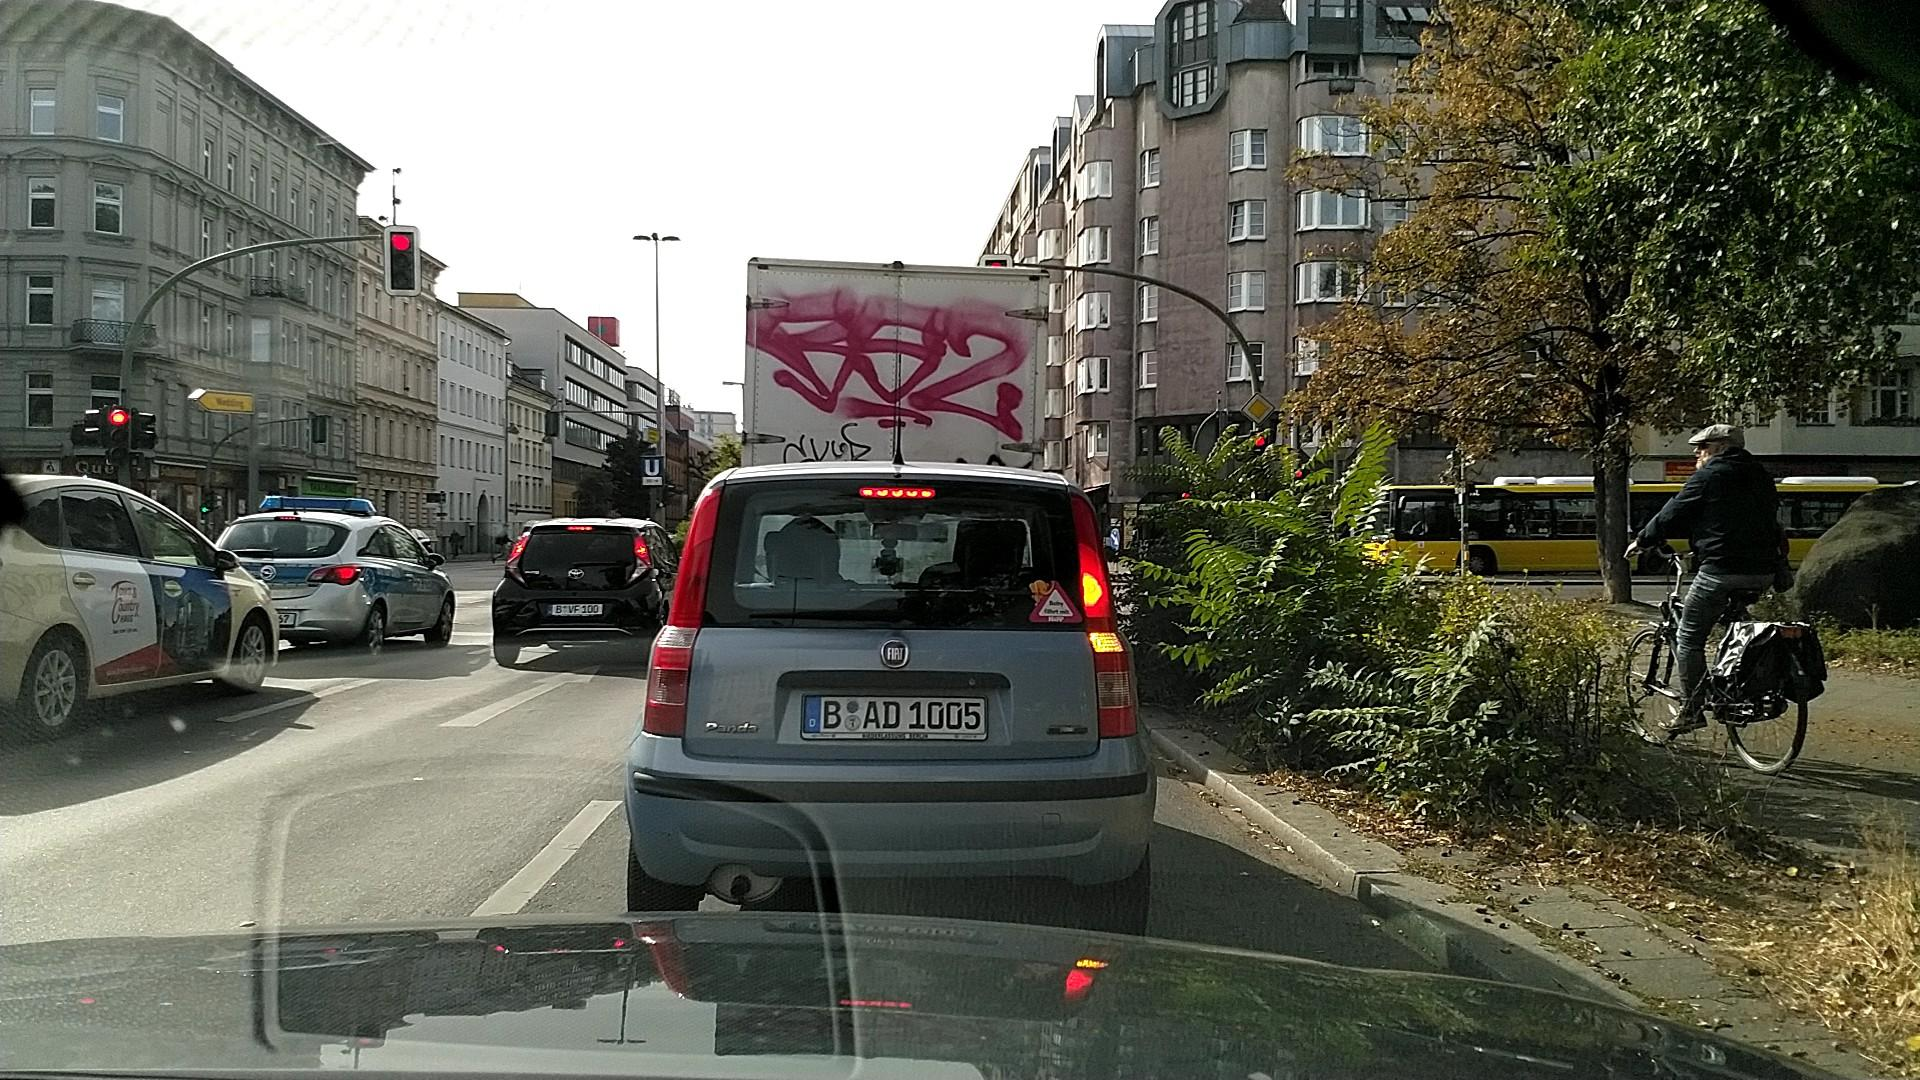Human face: (1688, 430, 1731, 472)
Vehicle registration plate: (800, 695, 987, 740), (545, 603, 603, 617)
